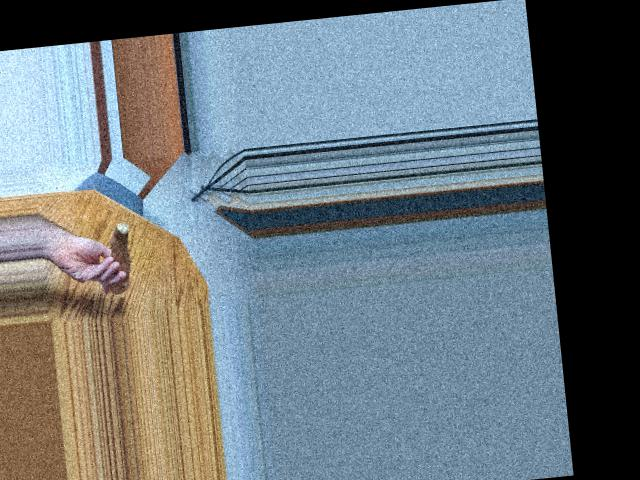sweet_potato: (104, 216, 134, 294)
